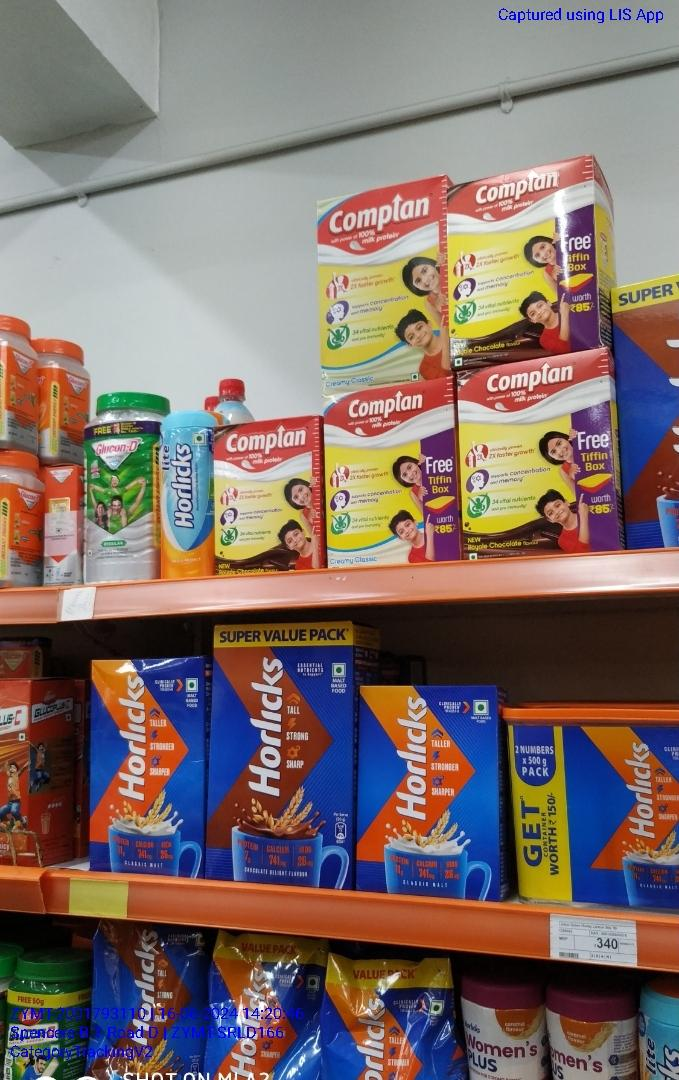HORLICKS_LITE_REGULAR_MALT_500_GM_JAR: (161, 411, 213, 582)
HORLICK_MALT_1_KG_CONTAINER: (510, 705, 679, 906)
